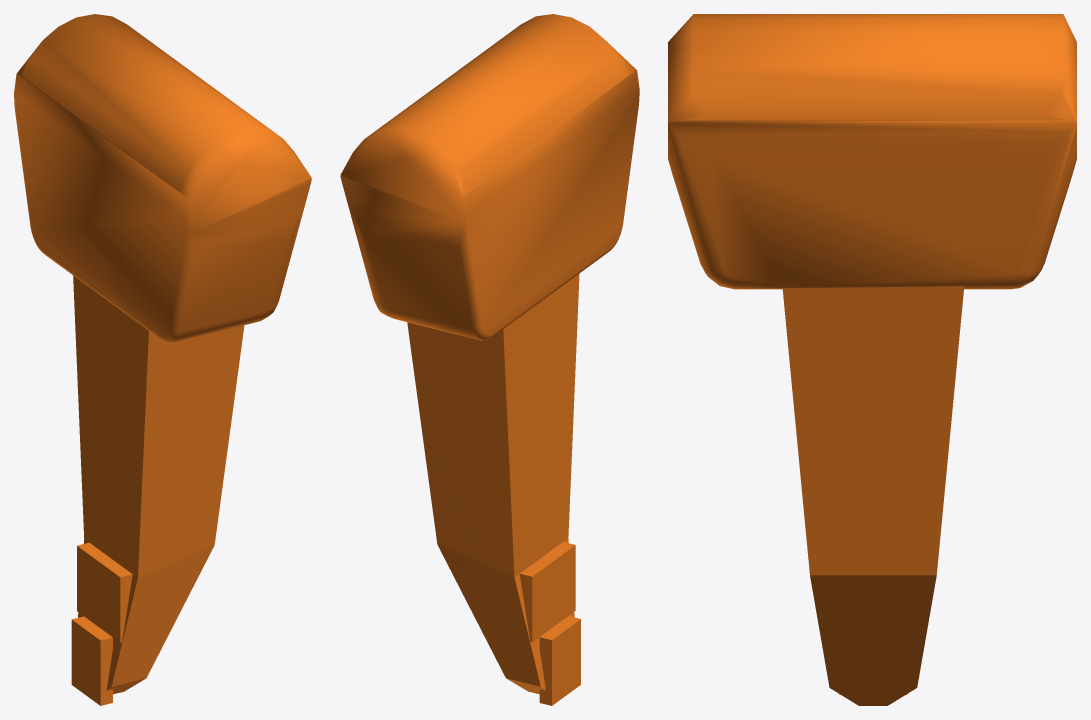
The picture shows the model from 3 angles, left to right: view 1: azimuth 30°, elevation 25°; view 2: azimuth 150°, elevation 25°; view 3: azimuth 270°, elevation 25°; orthographic projection. The views are drawn at different scales.
Visible parts, largest first — view 1: gripper_frame; view 2: gripper_frame; view 3: gripper_frame.
Boxes of the visible parts, x1,y1,x2,y2 form: gripper_frame: (14, 14, 311, 705); gripper_frame: (340, 14, 639, 705); gripper_frame: (668, 14, 1076, 705).
Size of the model in its own units: 0.0223 by 0.092 by 0.048.
